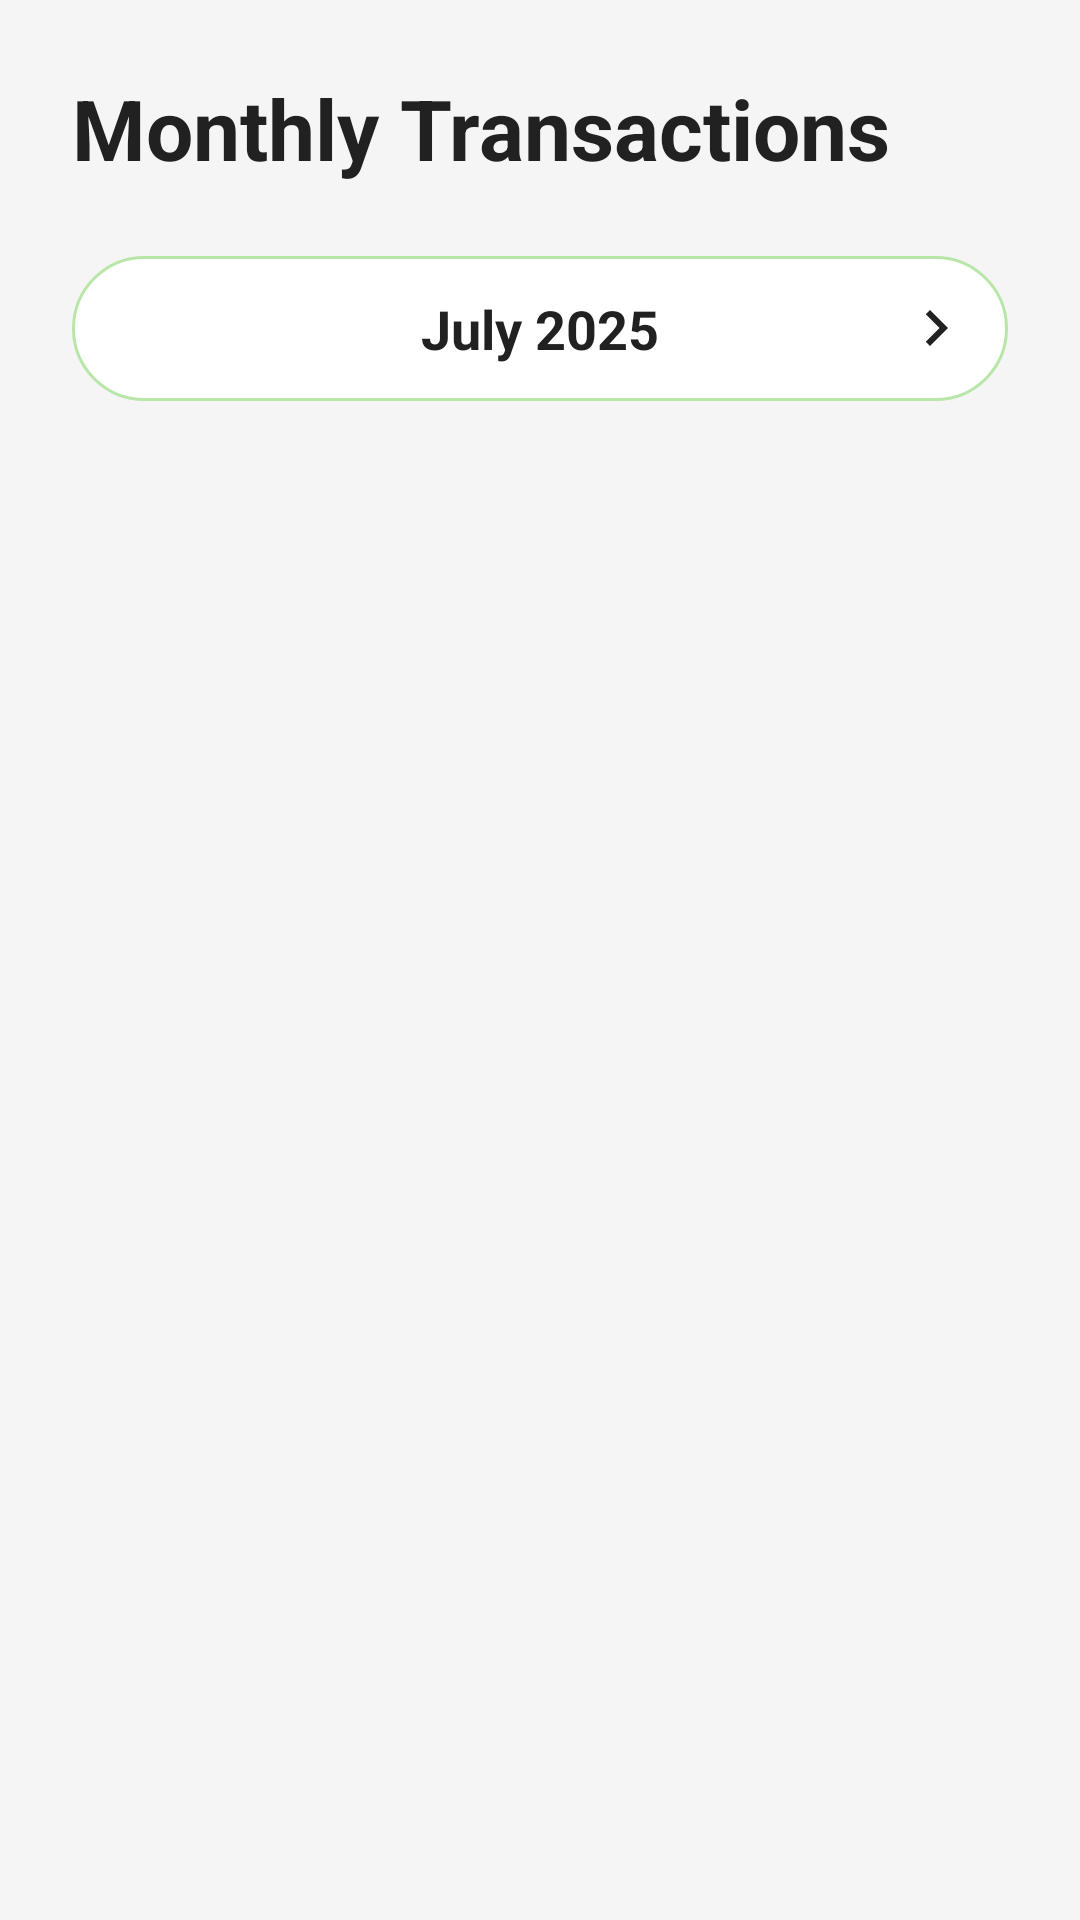

Point at icon controls on the screen. Image size 1080x1920, points as [x,y].
arrow right: [937,328]
